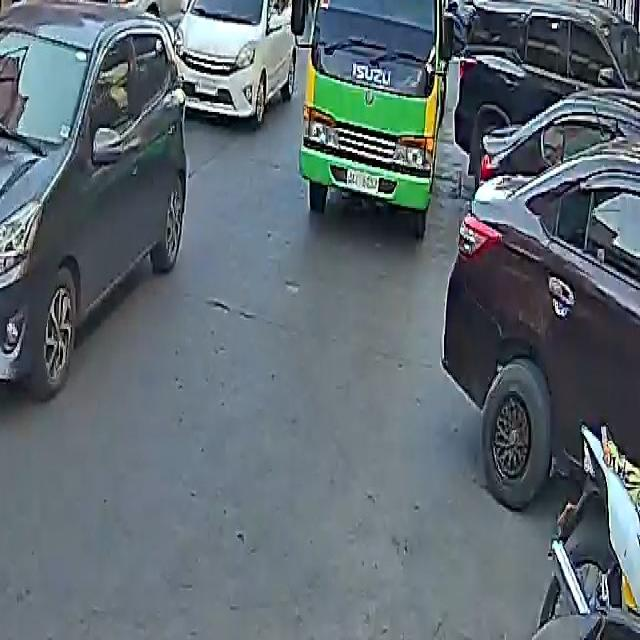car: (445, 83, 640, 520), (0, 0, 193, 400), (452, 0, 640, 185), (174, 0, 297, 123), (66, 0, 202, 16)
